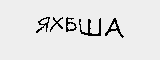А: (105, 17, 127, 41)
Б: (64, 13, 77, 35)
Х: (50, 12, 63, 33)
Ш: (76, 17, 103, 39)
Я: (35, 15, 49, 35)
